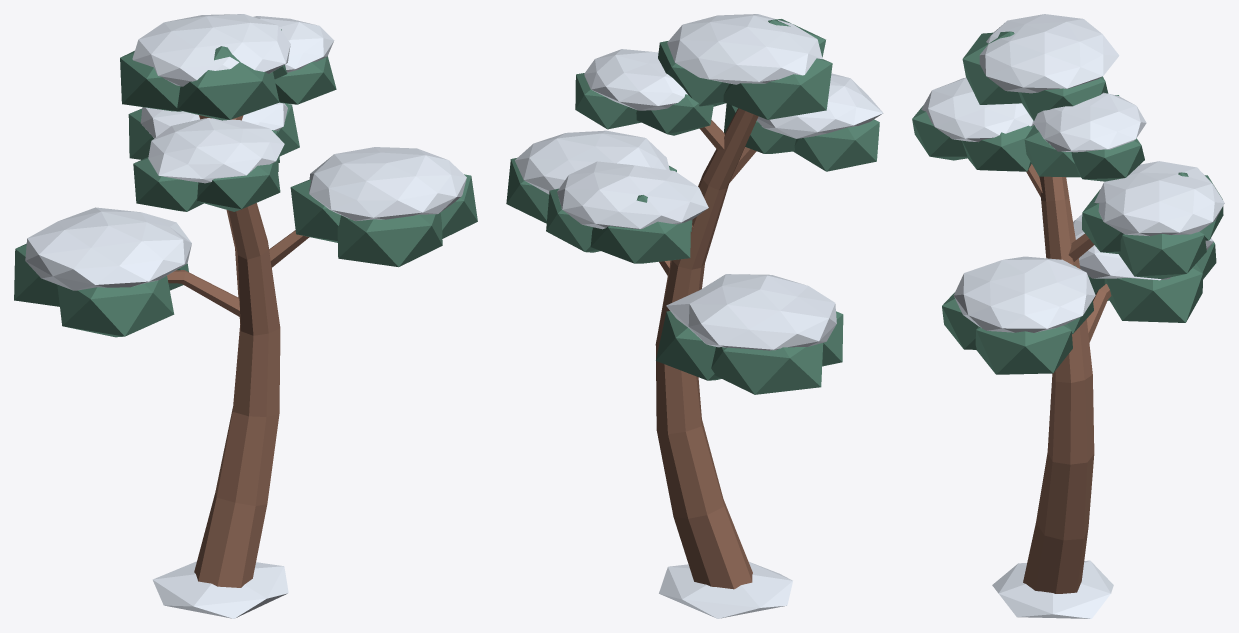
Rendered from TREE_PINE.glb.
The picture shows the model from 3 angles, left to right: view 1: azimuth 30°, elevation 25°; view 2: azimuth 150°, elevation 25°; view 3: azimuth 270°, elevation 25°; orthographic projection. The views are drawn at different scales.
Parts seen in each view (by area): view 1: TREE_PINE; view 2: TREE_PINE; view 3: TREE_PINE.
Part boxes in pixels (x1,y1,x2,y2): TREE_PINE: [14, 14, 477, 618]; TREE_PINE: [506, 14, 883, 618]; TREE_PINE: [912, 14, 1224, 618].
Size of the model in its own units: 3.52 by 5.04 by 2.54.
